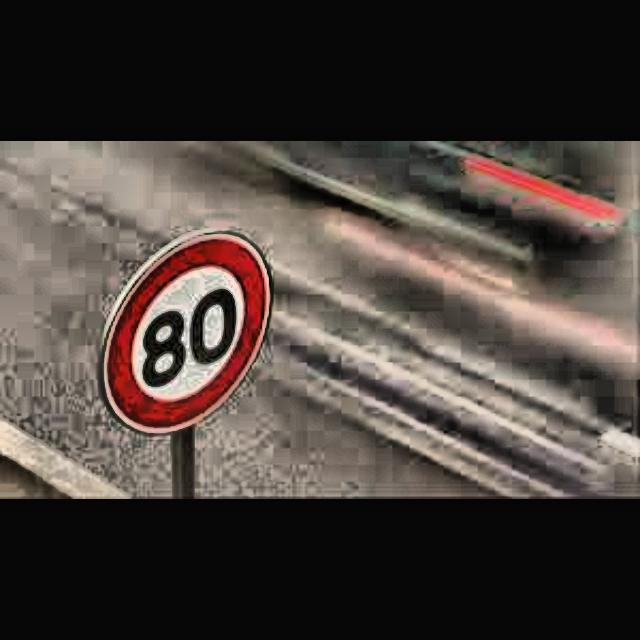speed_80: (110, 234, 266, 428)
